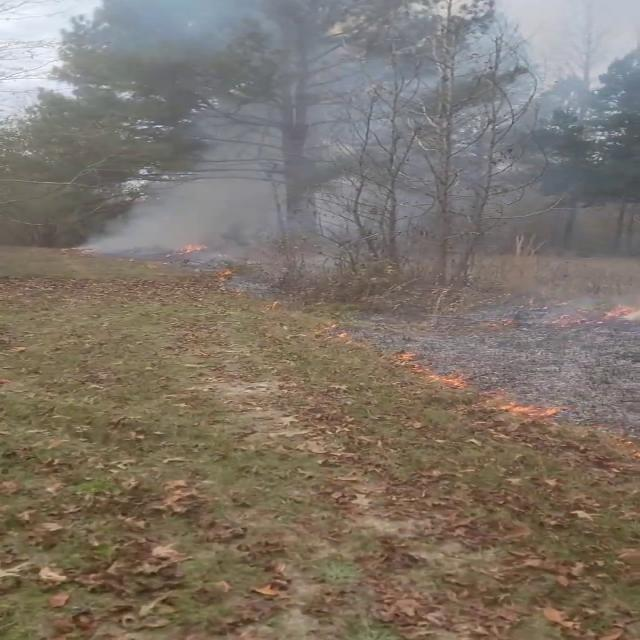Smoke: (80, 0, 394, 274)
